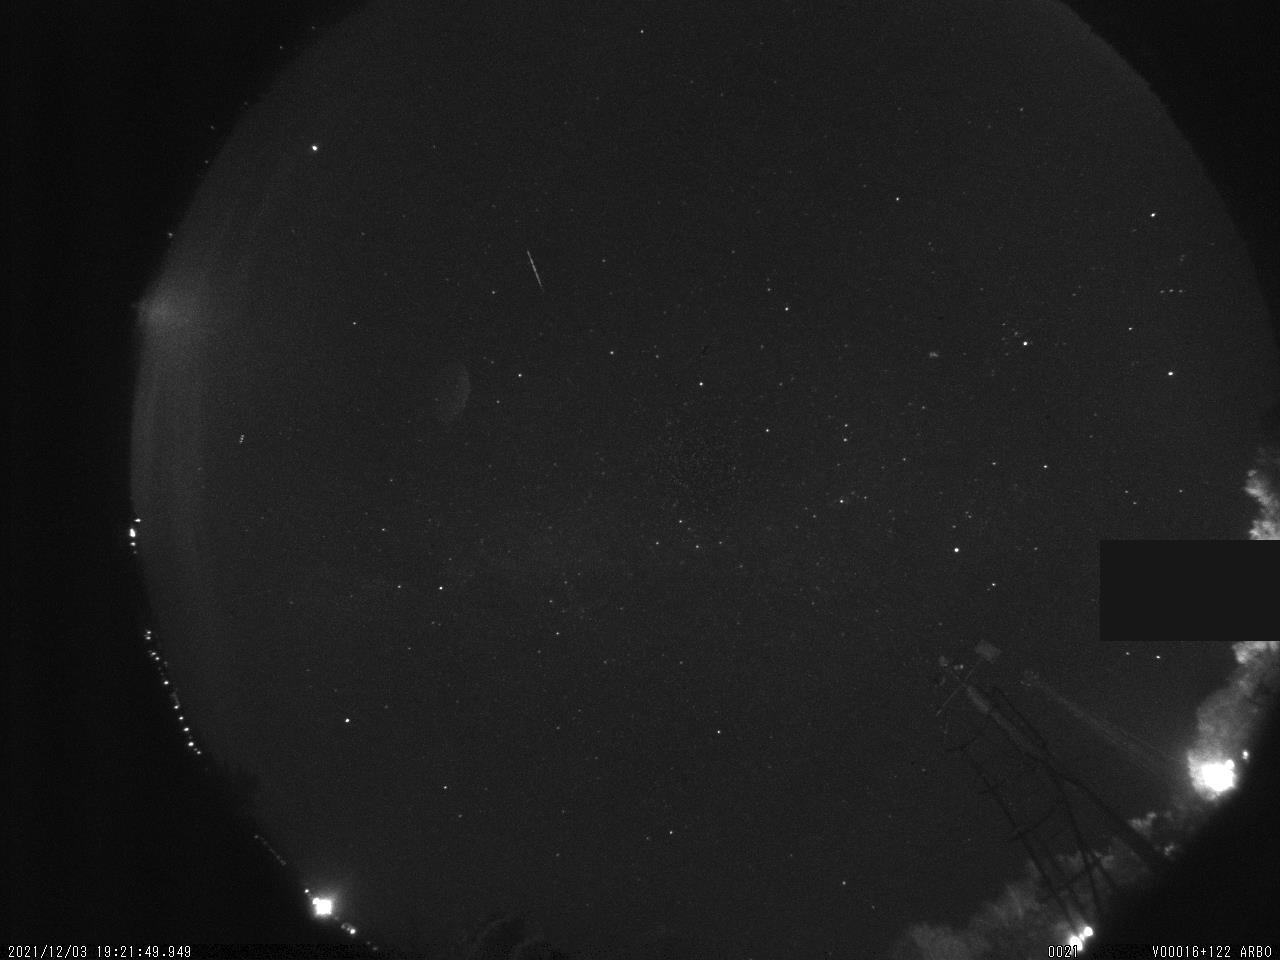Meteor: (524, 244, 547, 296)
